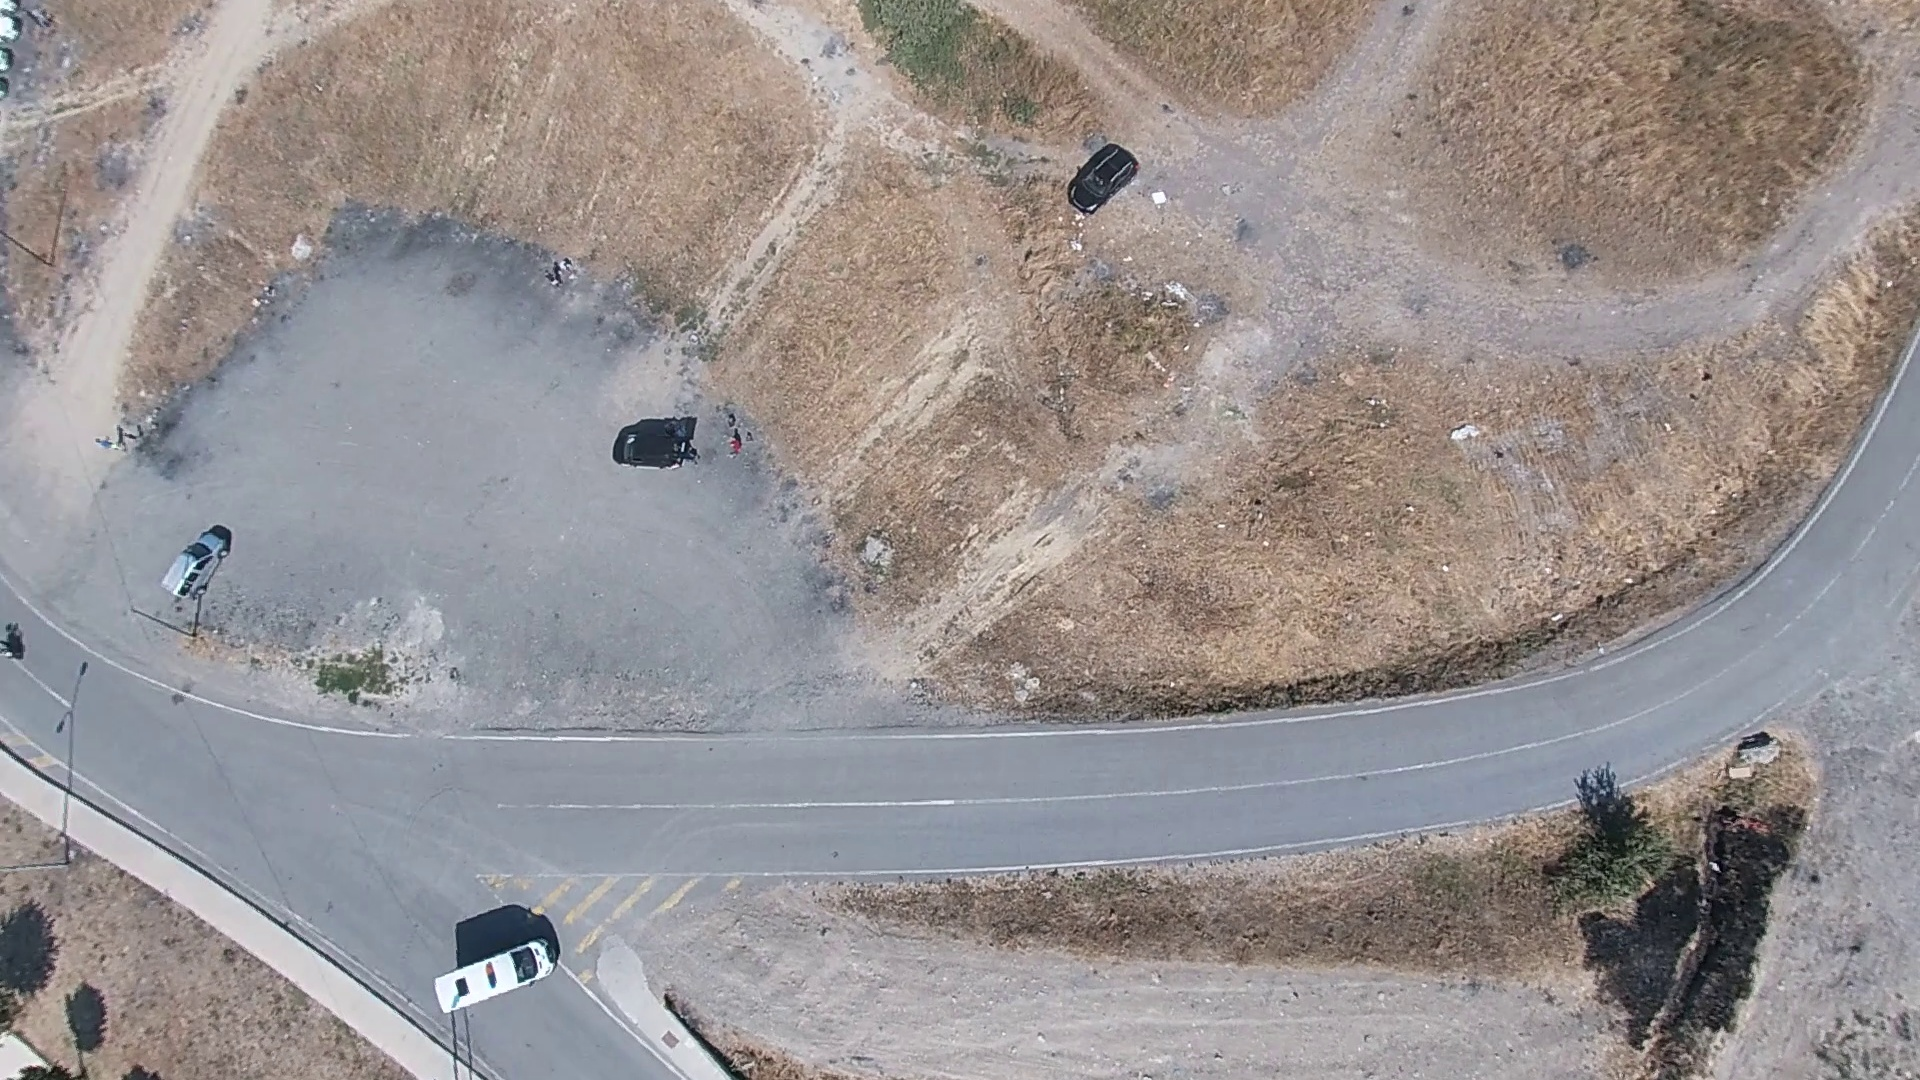arac: (428, 939, 561, 1018), (156, 521, 230, 601), (1069, 133, 1141, 214), (613, 424, 687, 470)
insan: (95, 430, 124, 455), (724, 433, 744, 460), (541, 269, 564, 291)
